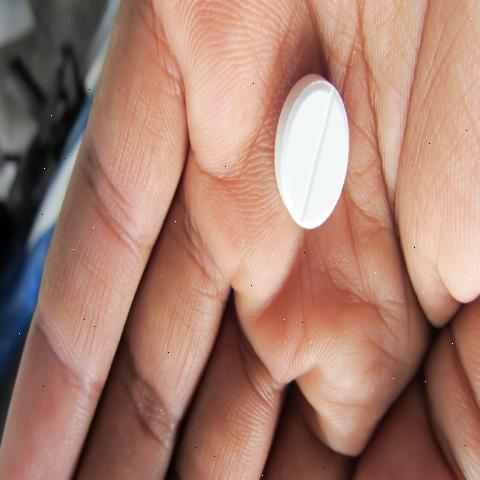Pill: (248, 46, 358, 255)
